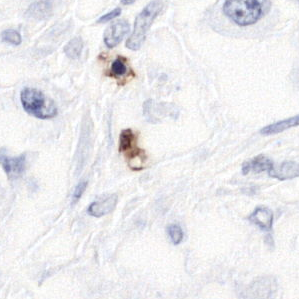Lymphocyte: (116, 127, 139, 155)
